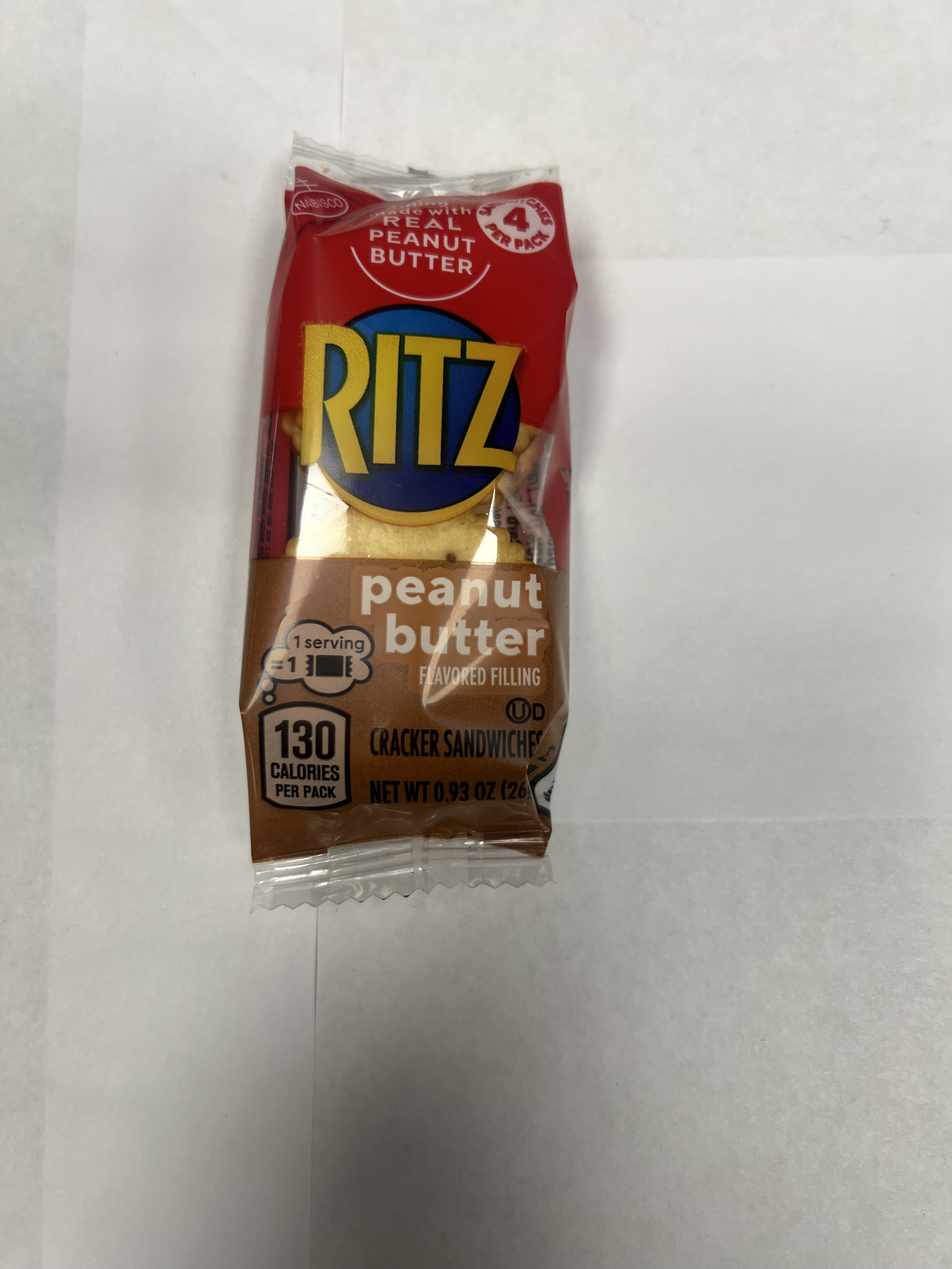packaged: (238, 141, 586, 899)
